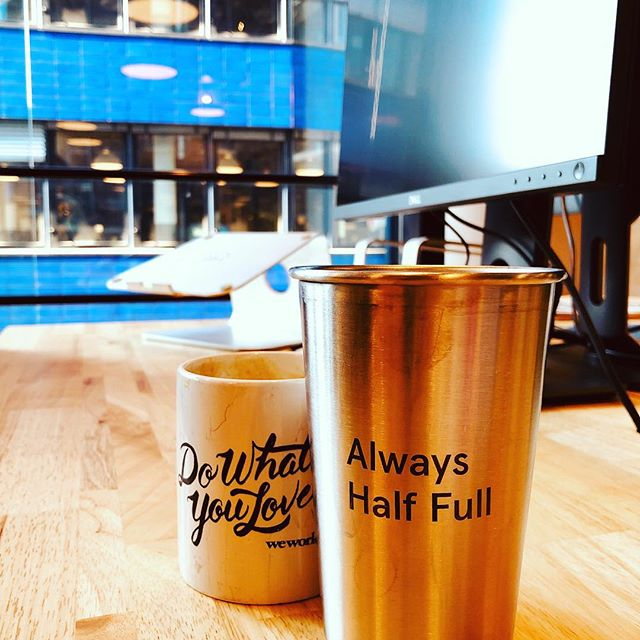wework: (265, 534, 319, 551)
